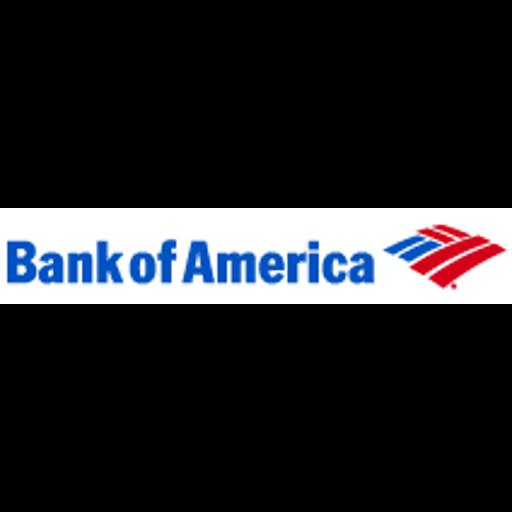Bank of America: (0, 208, 512, 304)
